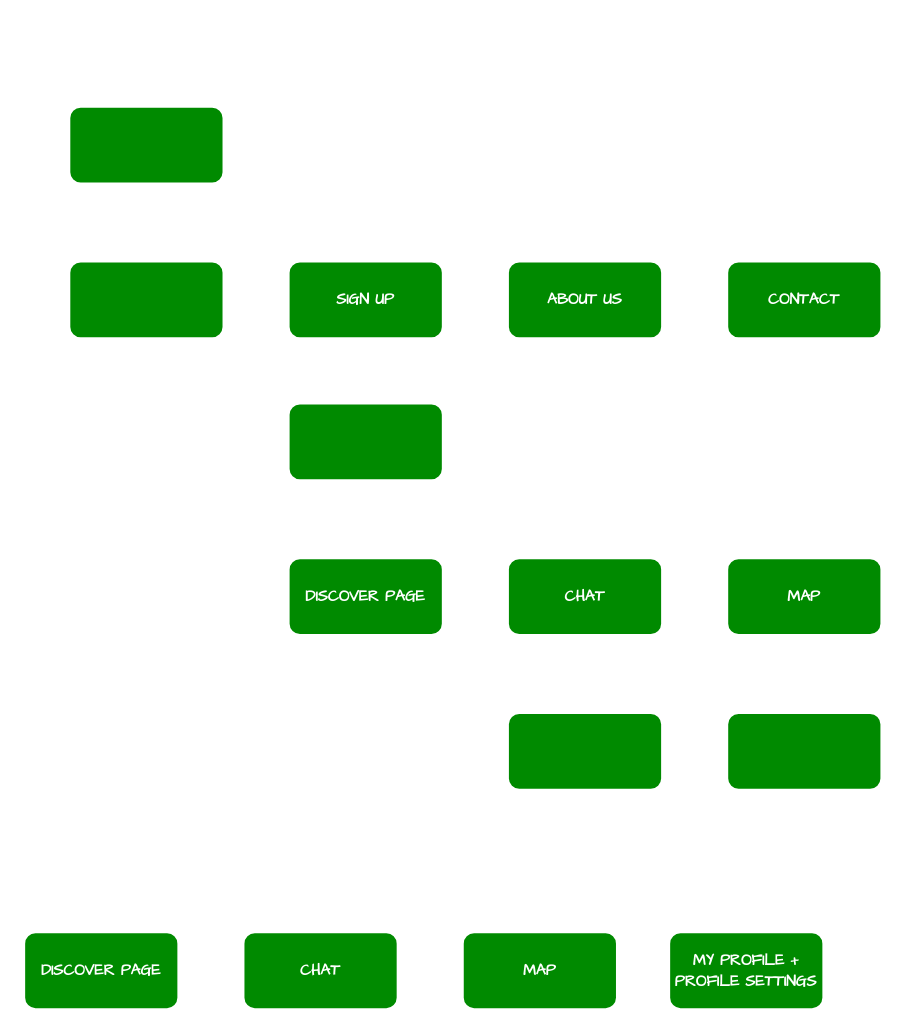
This 904x1032 diagram has some shape labels left out. Here are the shapes that lost their labels. From the top down, the centre of each, then its label:
At point (145, 144): "HOME PAGE".
At point (145, 299): "LOGIN".
At point (365, 441): "PROFILE CREATION".
At point (584, 751): "USER PROFILES".
At point (803, 751): "EVENT MANAGMENT".
